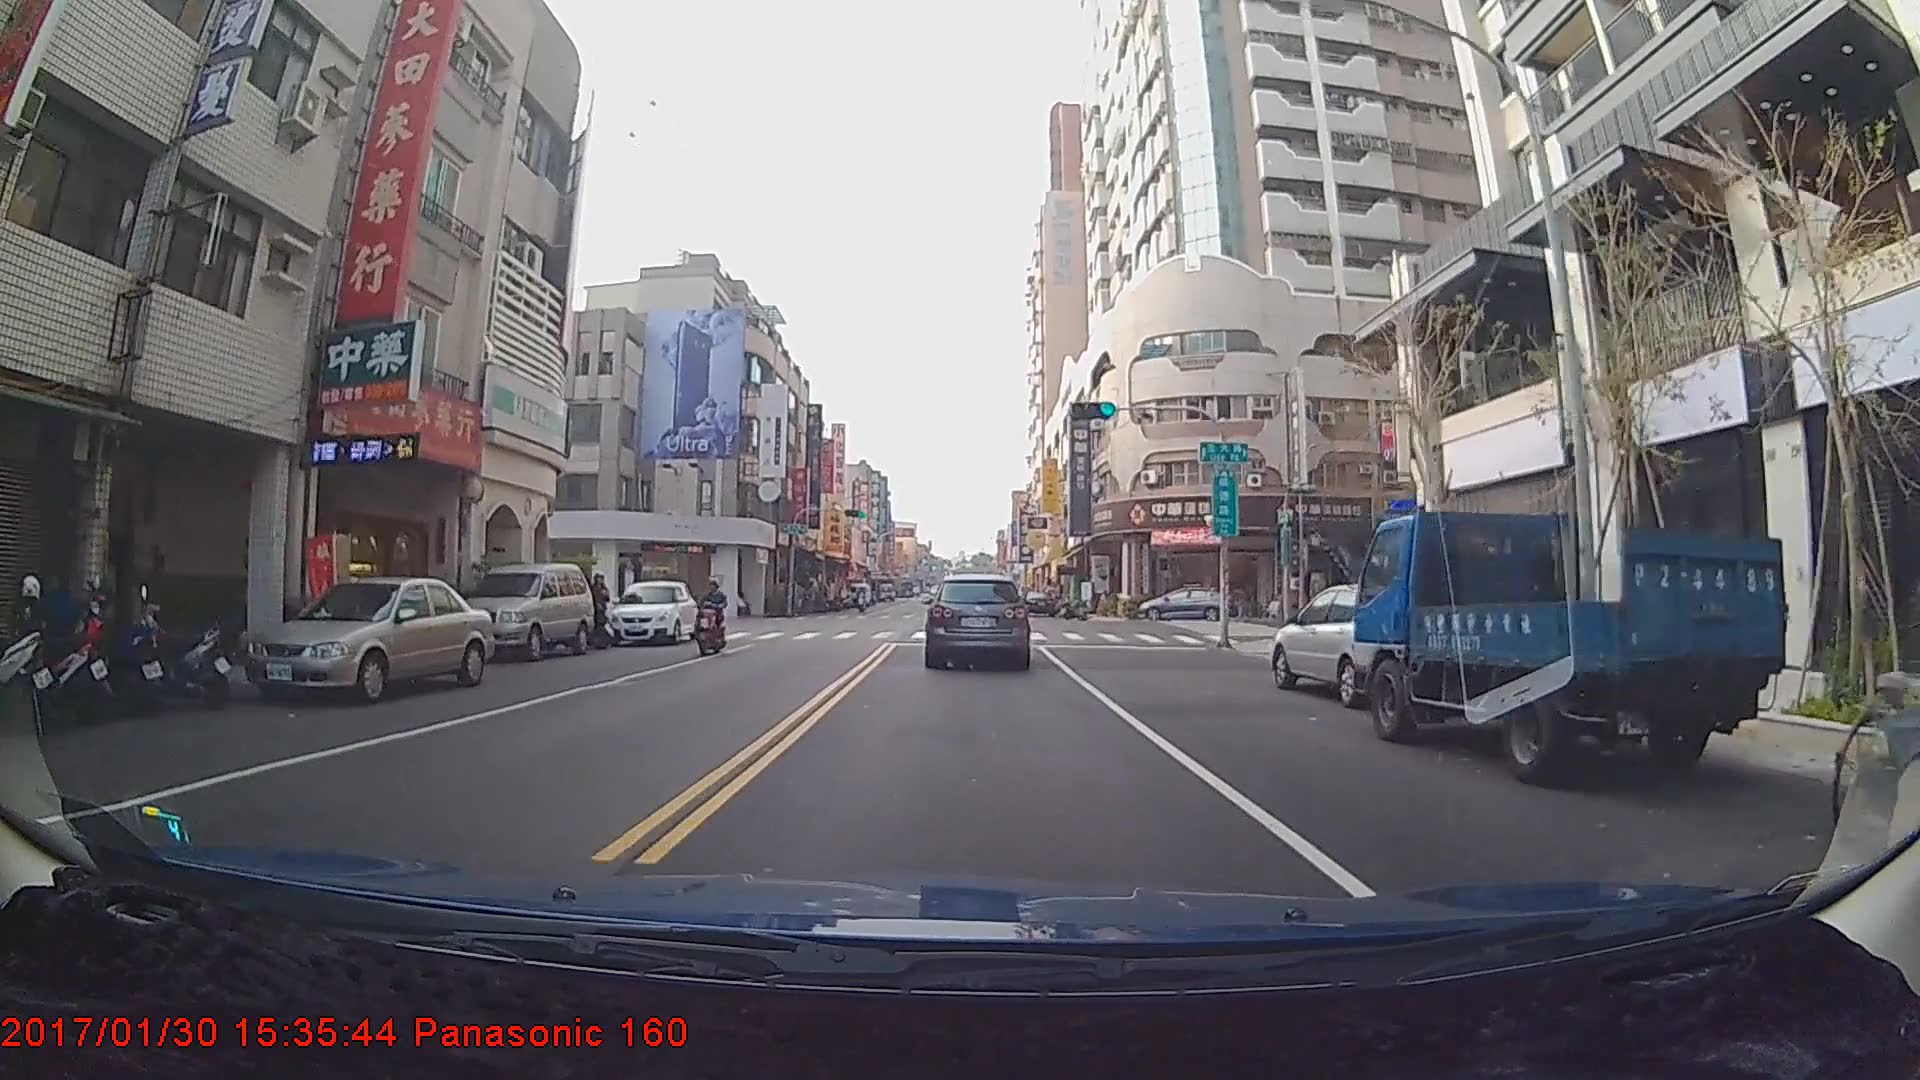rider: (693, 579, 732, 661)
vehicle: (1356, 507, 1787, 779), (240, 573, 493, 706), (1270, 581, 1443, 707), (449, 560, 596, 662), (926, 572, 1029, 669), (608, 579, 701, 647), (1136, 585, 1232, 621), (1022, 588, 1057, 615), (847, 579, 871, 606)
